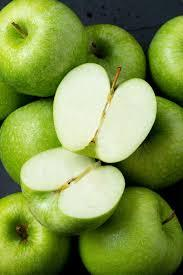apple: (20, 145, 126, 237), (78, 187, 180, 275), (60, 68, 157, 160), (2, 0, 83, 97), (0, 185, 68, 274), (124, 99, 182, 187), (0, 98, 60, 180), (83, 23, 148, 96), (151, 13, 183, 101)
